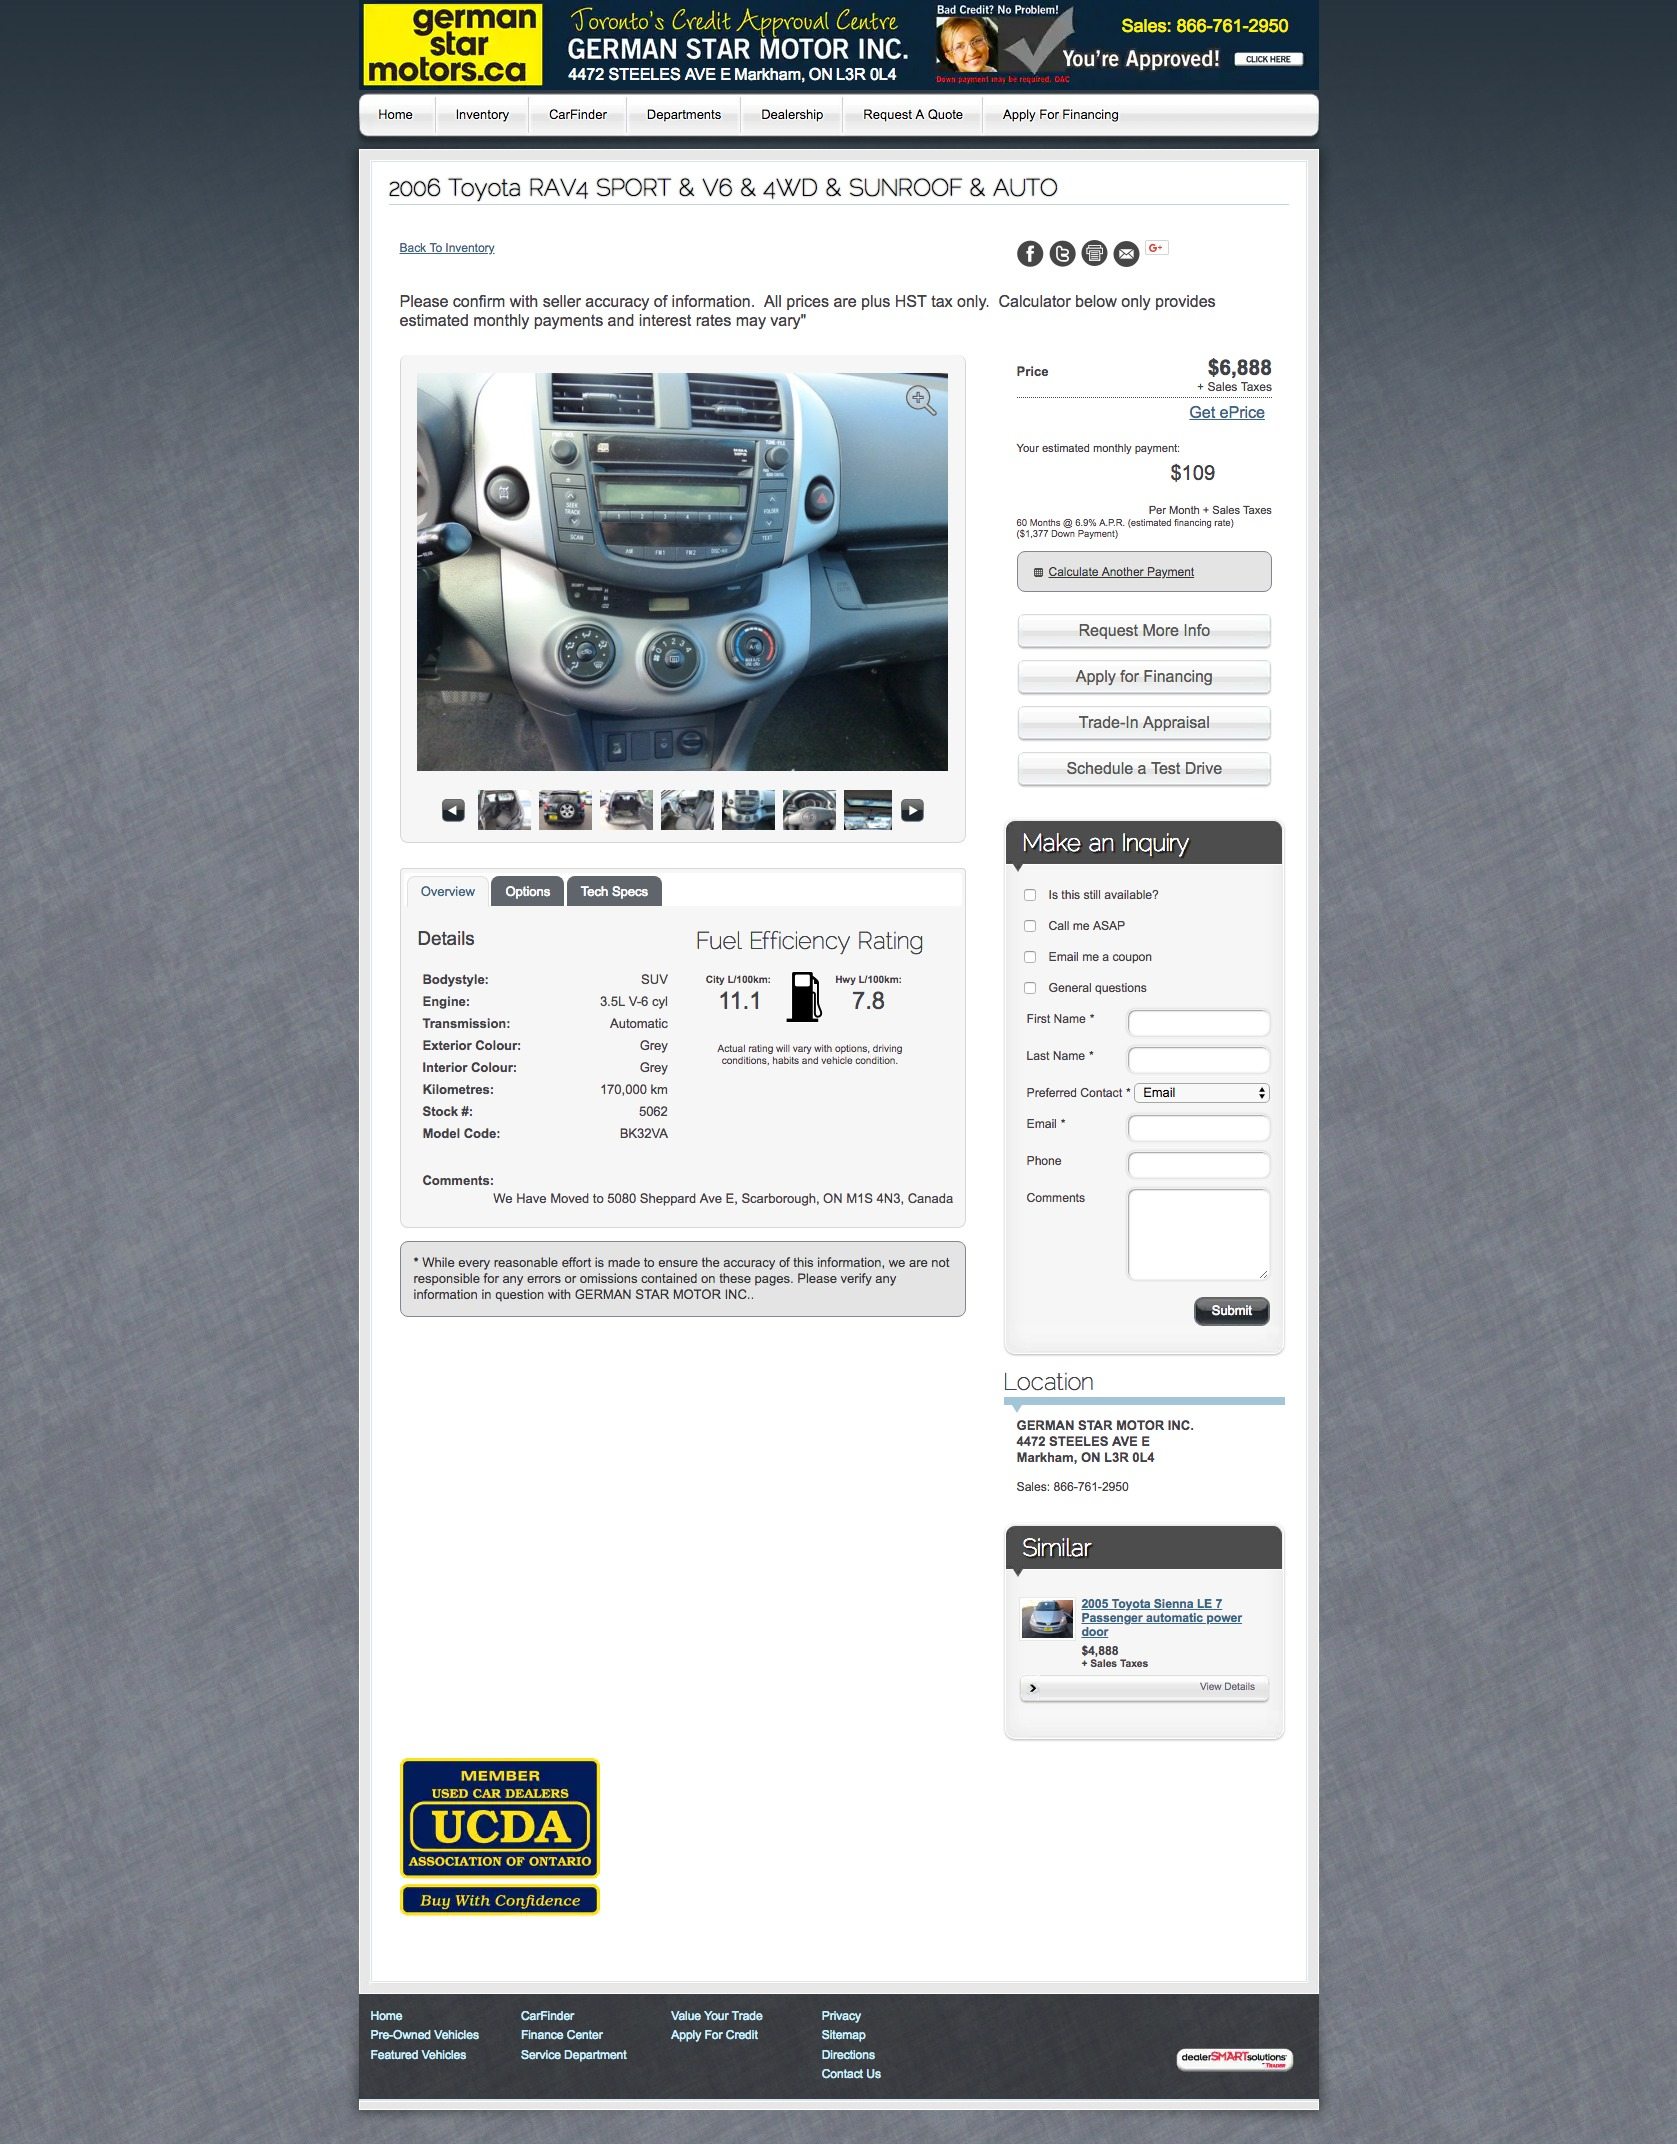car: (901, 799, 925, 823)
